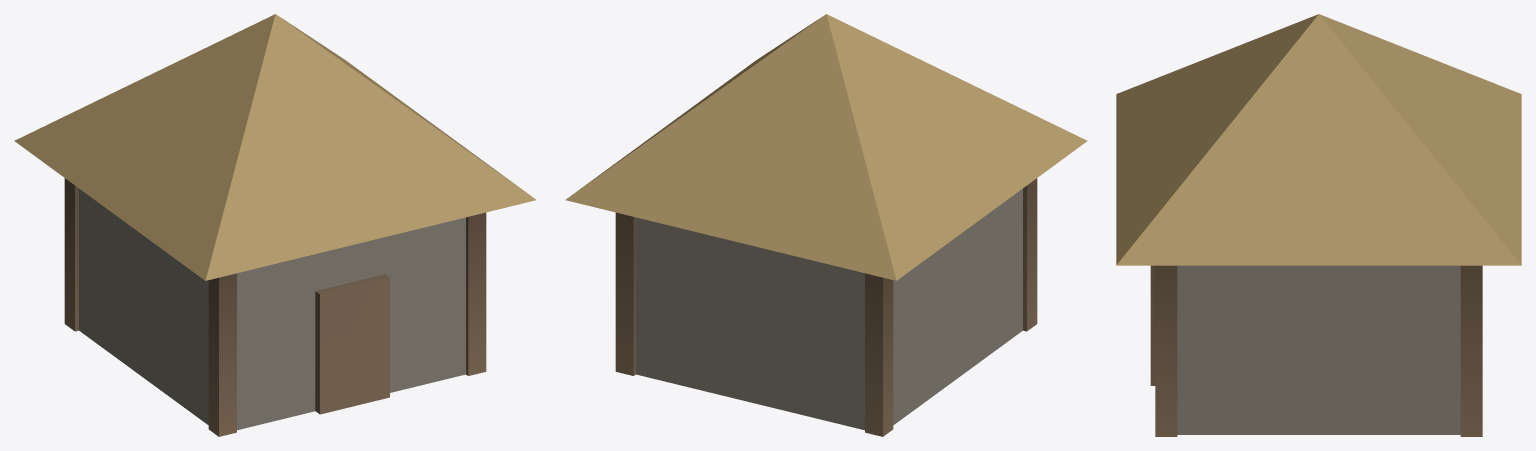
File: hut.glb
3 renders of one model, left to right at view 1: azimuth 30°, elevation 25°; view 2: azimuth 150°, elevation 25°; view 3: azimuth 270°, elevation 25°, orthographic. The views are drawn at different scales.
Visible parts, largest first — view 1: hut; view 2: hut; view 3: hut.
Part boxes in pixels (bbox=[...]): hut: bbox=[14, 14, 536, 436]; hut: bbox=[565, 14, 1087, 436]; hut: bbox=[1116, 14, 1521, 436].
Size of the model in its own units: 3.32 by 3.2 by 3.32.
